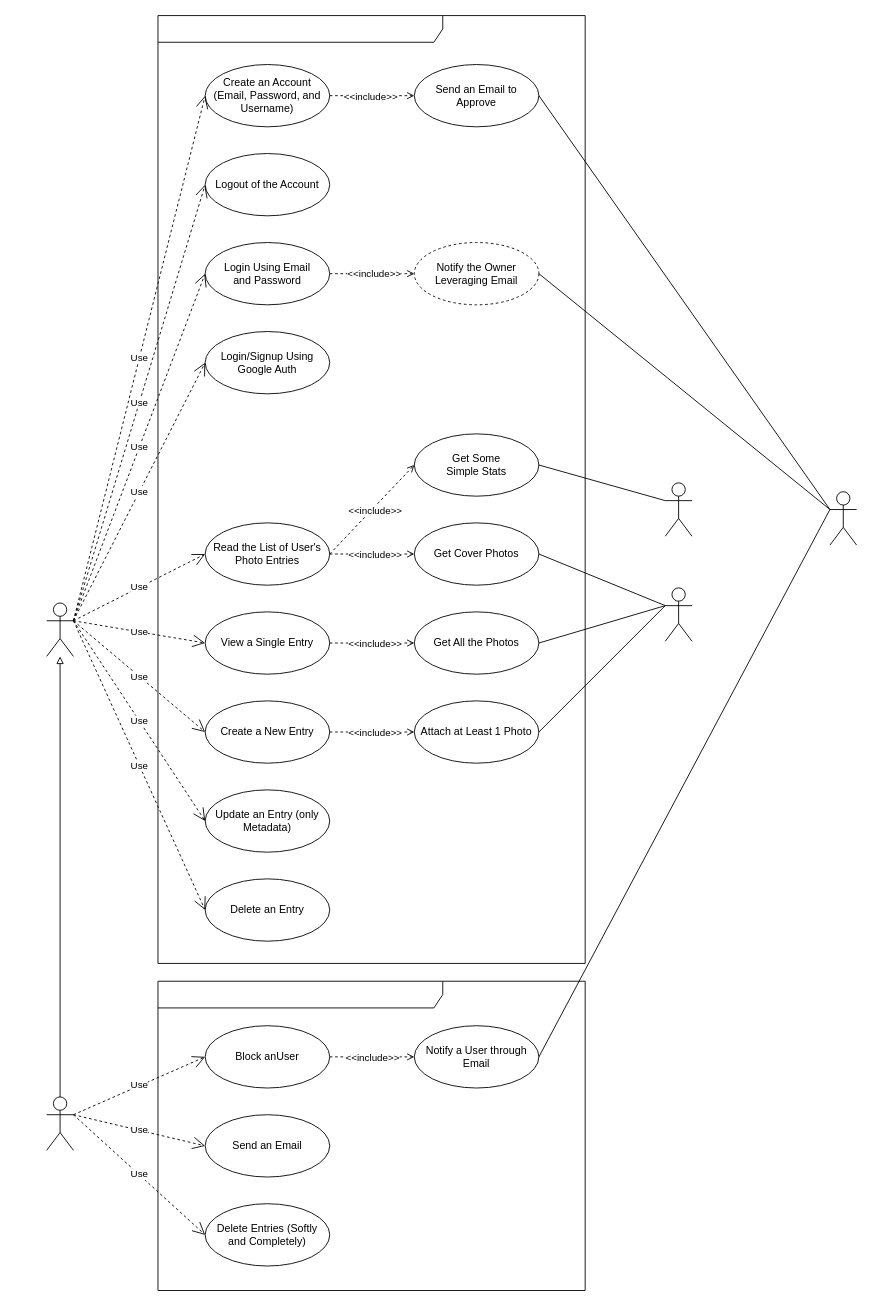
This 891x1307 diagram has some shape labels left out. The shapes that lost their labels are listed below. From the top down, each one's centre as x and y in pixels, then its label:
At point (371, 489): "<<subsystem>> The Remote Gallery".
At point (678, 509): "Caching".
At point (843, 518): "Email Service".
At point (59, 629): "Base User".
At point (678, 614): "Object Storage".
At point (59, 1123): "Moderator (Admin)".
At point (371, 1135): "<<subsystem>> Admin Page of the Remote Gallery".
